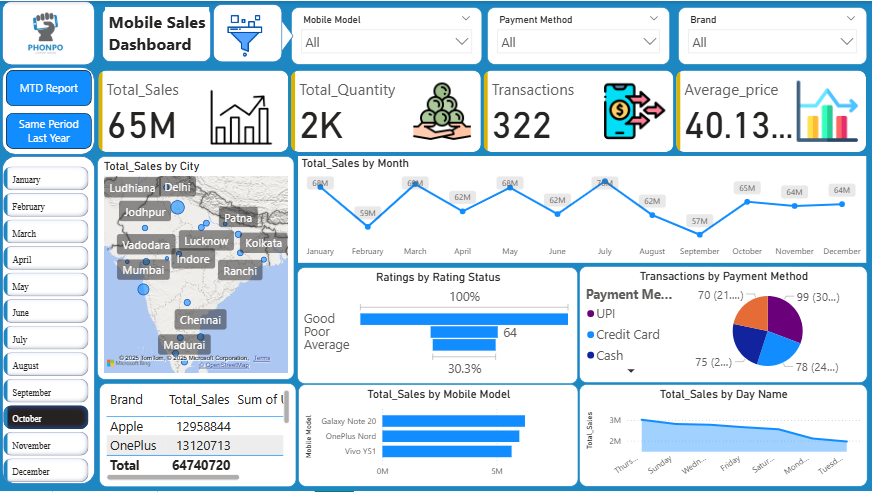

This screenshot's page, from the dashboard's own definition file:
{"tool":"powerbi","page":{"name":"Dashboard","canvas":[1280,720],"ordinal":0},"visuals":[{"type":"shape","box":[3,0,136.2,94.3],"z":0},{"type":"image","box":[0,0,134.7,94.3],"z":1000},{"type":"shape","box":[3,97.3,136.2,128.7],"z":2000},{"type":"shape","box":[2.9,227.8,136.7,482],"z":3000},{"type":"advancedSlicerVisual","fields":{"Values":["Custom_Calender.Date.Variation.Date Hierarchy.Month"]},"box":[0,237.6,135.3,482.4],"z":4000},{"type":"cardVisual","fields":{"Data":["Mobile_Sales_Data.Total_Sales","Mobile_Sales_Data.Total_Quantity","Mobile_Sales_Data.Transactions","Mobile_Sales_Data.Average_price"]},"box":[139.2,97.3,1140.8,130.2],"z":5000},{"type":"slicer","fields":{"Values":["Mobile_Sales_Data.Mobile Model"]},"box":[428.2,9,281.5,85.3],"z":6000},{"type":"slicer","fields":{"Values":["Mobile_Sales_Data.Payment Method"]},"box":[715.6,9,269.5,85.3],"z":7000},{"type":"slicer","fields":{"Values":["Mobile_Sales_Data.Brand"]},"box":[995.6,9,278.5,85.3],"z":8000},{"type":"shape","box":[383.3,19.5,47.9,64.4],"z":9000},{"type":"shape","box":[312.9,4.5,101.8,85.3],"z":10000},{"type":"image","box":[323.4,15,73.4,73.4],"z":11000},{"type":"shape","box":[149.7,9,160.2,80.8],"z":12000},{"type":"textbox","box":[154.2,9,152.7,74.9],"z":13000},{"type":"map","fields":{"Category":["Mobile_Sales_Data.City"],"Size":["Mobile_Sales_Data.Total_Sales"]},"box":[142.6,227.9,289.7,329.4],"z":14000},{"type":"lineChart","fields":{"Y":["Mobile_Sales_Data.Total_Sales"],"Category":["Custom_Calender.Date.Variation.Date Hierarchy.Month"]},"box":[438.2,227.9,835.3,157.4],"z":14001},{"type":"funnel","title":"Ratings by Rating Status","fields":{"Y":["CountNonNull(Mobile_Sales_Data.Customer Ratings)"],"Category":["Mobile_Sales_Data.Rating Status"]},"box":[436.8,391.2,413.2,172.1],"z":14002},{"type":"pieChart","fields":{"Y":["Mobile_Sales_Data.Transactions"],"Category":["Mobile_Sales_Data.Payment Method"]},"box":[851.5,389.7,423.5,172.1],"z":14003},{"type":"areaChart","fields":{"Y":["Mobile_Sales_Data.Total_Sales"],"Category":["Custom_Calender.Day"]},"box":[851.5,563.2,423.5,151.5],"z":14005},{"type":"clusteredBarChart","fields":{"Y":["Mobile_Sales_Data.Total_Sales"],"Category":["Mobile_Sales_Data.Mobile Model"]},"box":[438.2,563.2,411.8,151.5],"z":14006},{"type":"tableEx","fields":{"Values":["Mobile_Sales_Data.Brand","Mobile_Sales_Data.Total_Sales","Sum(Mobile_Sales_Data.Units Sold)"]},"box":[145.6,561.8,289.7,152.9],"z":14007},{"type":"pageNavigator","box":[8.8,101.5,126.5,117.6],"z":14008}]}

Visuals, with their boxes in screenshot pixels (x1, y1, x2, y2), scaled from the page's 1280x720 canvas onto the 872x492 screenshot:
shape: 2, 0, 95, 64
image: 0, 0, 92, 64
shape: 2, 66, 95, 154
shape: 2, 156, 95, 485
advancedSlicerVisual - Custom_Calender.Date.Variation.Date Hierarchy.Month: 0, 162, 92, 491
cardVisual - Mobile_Sales_Data.Total_Sales x Mobile_Sales_Data.Total_Quantity: 95, 66, 871, 155
slicer - Mobile_Sales_Data.Mobile Model: 292, 6, 483, 64
slicer - Mobile_Sales_Data.Payment Method: 488, 6, 671, 64
slicer - Mobile_Sales_Data.Brand: 678, 6, 868, 64
shape: 261, 13, 294, 57
shape: 213, 3, 283, 61
image: 220, 10, 270, 60
shape: 102, 6, 211, 61
textbox: 105, 6, 209, 57
map - Mobile_Sales_Data.City x Mobile_Sales_Data.Total_Sales: 97, 156, 295, 381
lineChart - Mobile_Sales_Data.Total_Sales x Custom_Calender.Date.Variation.Date Hierarchy.Month: 299, 156, 868, 263
"Ratings by Rating Status" funnel: 298, 267, 579, 385
pieChart - Mobile_Sales_Data.Transactions x Mobile_Sales_Data.Payment Method: 580, 266, 869, 384
areaChart - Mobile_Sales_Data.Total_Sales x Custom_Calender.Day: 580, 385, 869, 488
clusteredBarChart - Mobile_Sales_Data.Total_Sales x Mobile_Sales_Data.Mobile Model: 299, 385, 579, 488
tableEx - Mobile_Sales_Data.Brand x Mobile_Sales_Data.Total_Sales: 99, 384, 297, 488
pageNavigator: 6, 69, 92, 150
